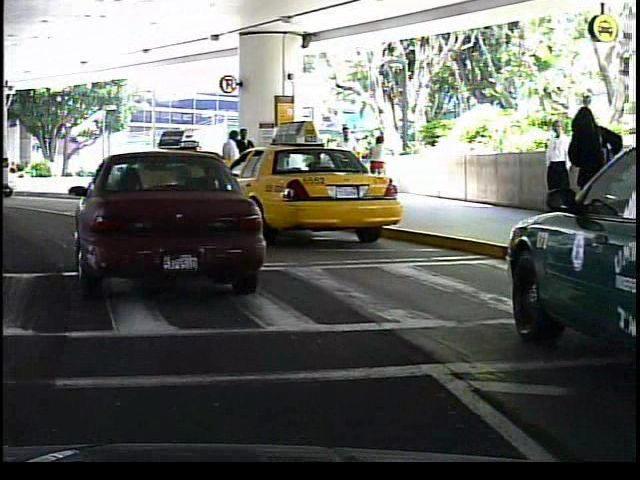person: (563, 103, 621, 258), (534, 112, 575, 227), (331, 120, 362, 198), (216, 127, 244, 202), (363, 131, 390, 193), (236, 125, 256, 198)
